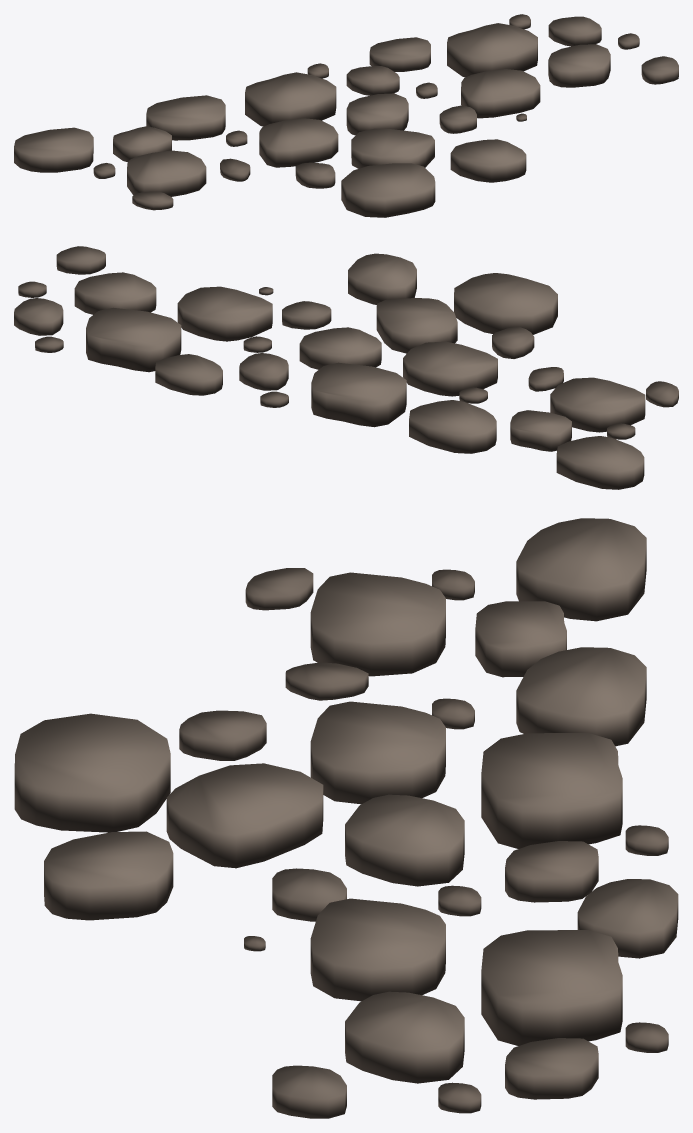
The model's file is obj_PathT.fbx.
3 renders of one model, top to bottom at view 1: azimuth 30°, elevation 25°; view 2: azimuth 150°, elevation 25°; view 3: azimuth 270°, elevation 25°, orthographic. The views are drawn at different scales.
Visible parts, largest first — view 1: obj_PathT; view 2: obj_PathT; view 3: obj_PathT.
Boxes of the visible parts, x1,y1,x2,y2 form: obj_PathT: (14,14,678,217); obj_PathT: (14,246,678,489); obj_PathT: (14,518,678,1118).
Bounding box in the file's own units: 2362 × 85.29 × 1152.
